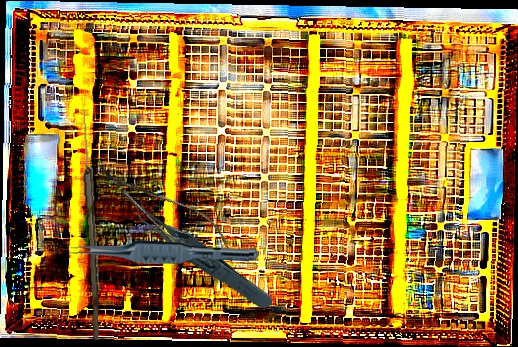Micro Scissor: (84, 152, 247, 276)
Surgical Spoon: (77, 108, 105, 341)
Tissue Forceps: (128, 172, 277, 334), (67, 237, 260, 266)
